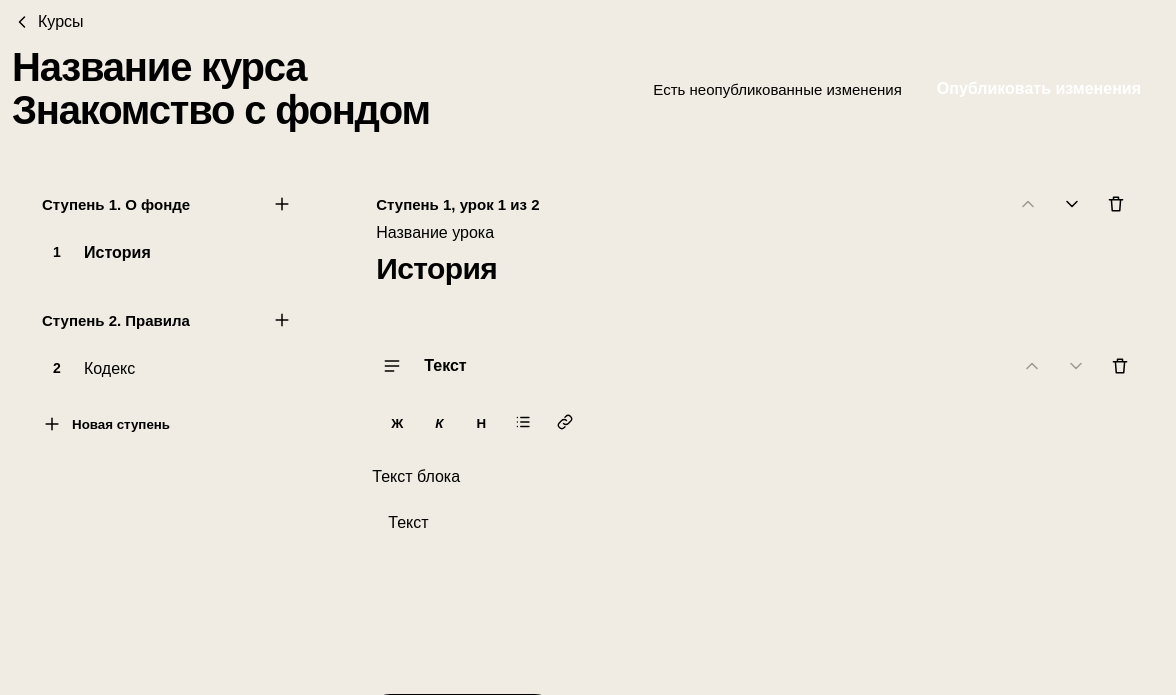
Курсы › publishes in one step: reviews changed drafts, then publishes the course in its order
The width and height of the screenshot is (1176, 695).
Expected: the text "Есть неопубликованные изменения" is shown, top-left (636, 81), bottom-right (902, 98)
Step 1. Click the button "Опубликовать изменения" → x=1039, y=89, box top-left (914, 65), bottom-right (1164, 113)
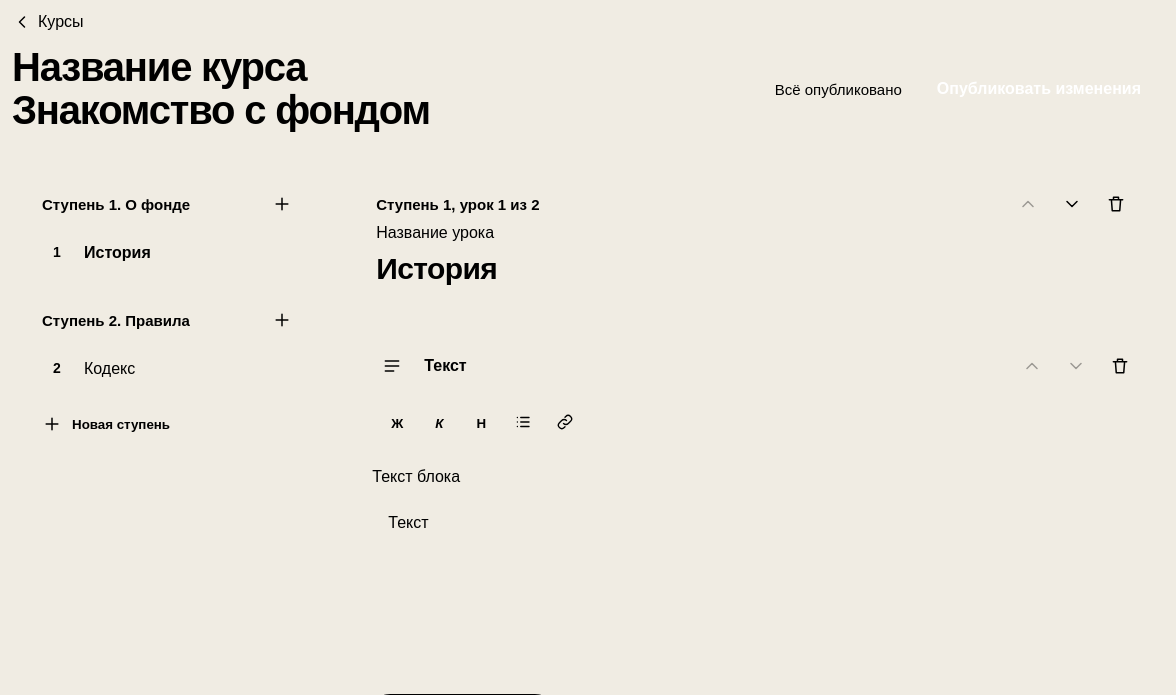
Expected: the text "Всё опубликовано" is shown, top-left (758, 81), bottom-right (902, 98)
